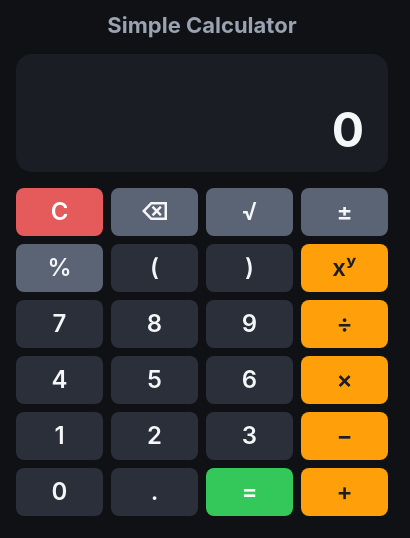
Scenario: App › shows the exponent key and sends the backend `^` form
Click the button "2": [154, 436] box [111, 412, 198, 460]
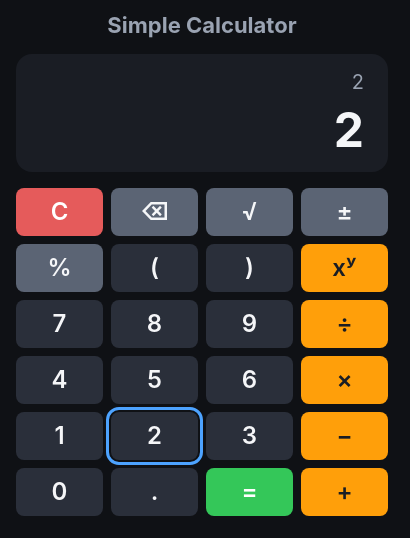
Click the button with aria-label "exponent": [344, 268] box [301, 244, 388, 292]
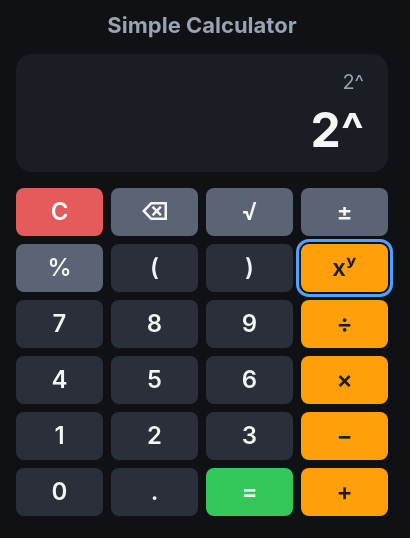
Click the button "3": [250, 436] box [206, 412, 293, 460]
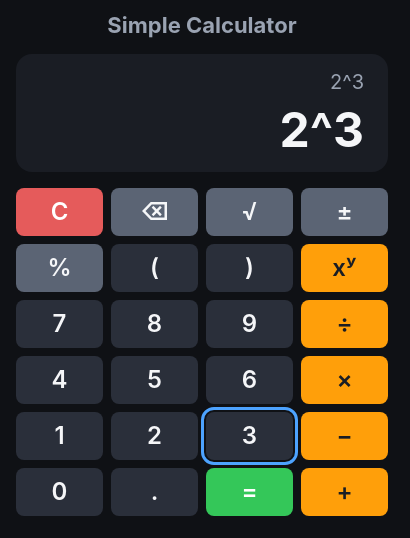
expect the message reads "2^3": met, box [279, 100, 364, 159]
Click the button named "equals": [250, 492] box [206, 468, 293, 516]
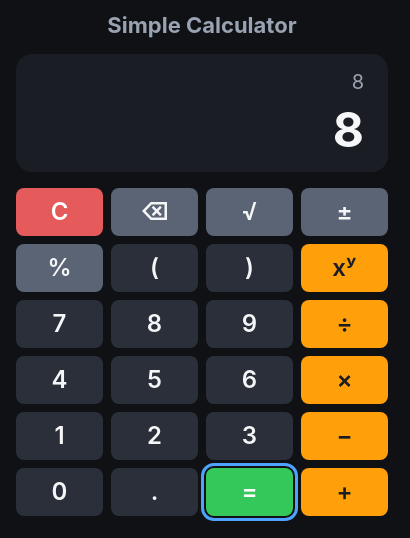
expect the message reads "8": met, box [333, 100, 364, 159]
